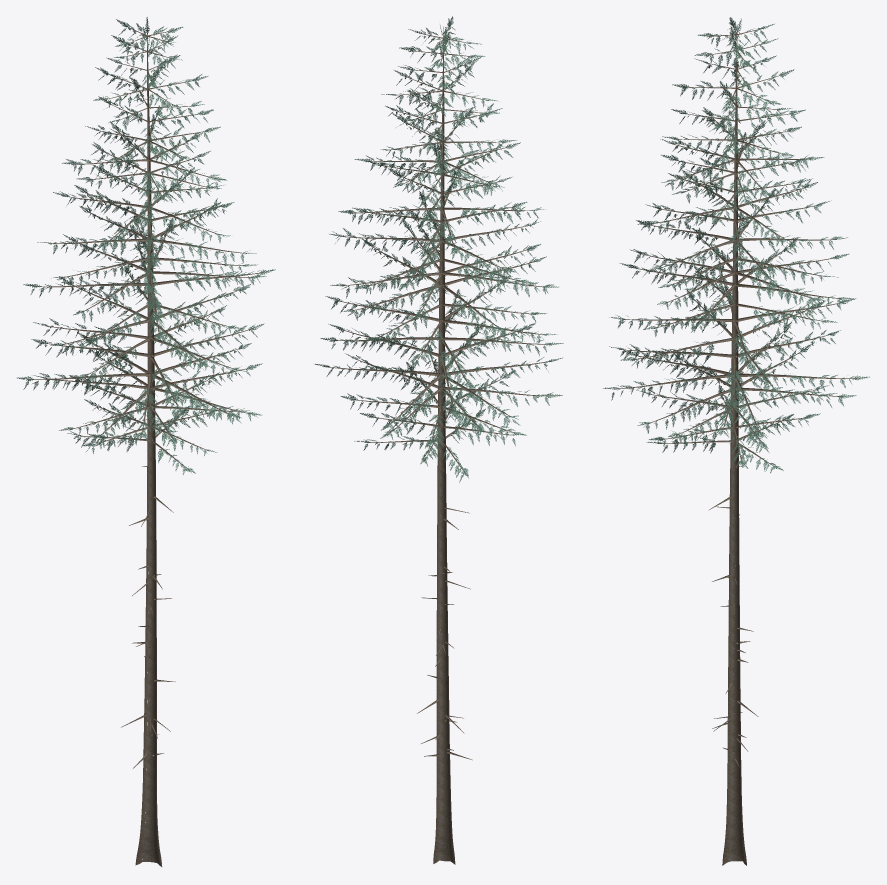
The model's file is hoh_sitka_spruce.glb.
3 renders of one model, left to right at view 1: azimuth 30°, elevation 25°; view 2: azimuth 150°, elevation 25°; view 3: azimuth 270°, elevation 25°, orthographic.
Parts seen in each view (by area): view 1: hoh_sitka_spruce; view 2: hoh_sitka_spruce; view 3: hoh_sitka_spruce.
Part boxes in pixels (box(x1,y1,x2,y2)): hoh_sitka_spruce: box(17, 17, 275, 866); hoh_sitka_spruce: box(314, 16, 563, 864); hoh_sitka_spruce: box(603, 17, 869, 865).
Size of the model in its own units: 10.97 by 38.79 by 11.32.
2 materials, 2 textured.
